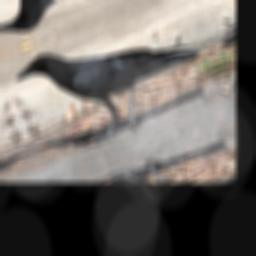Crow: (8, 1, 218, 163)
